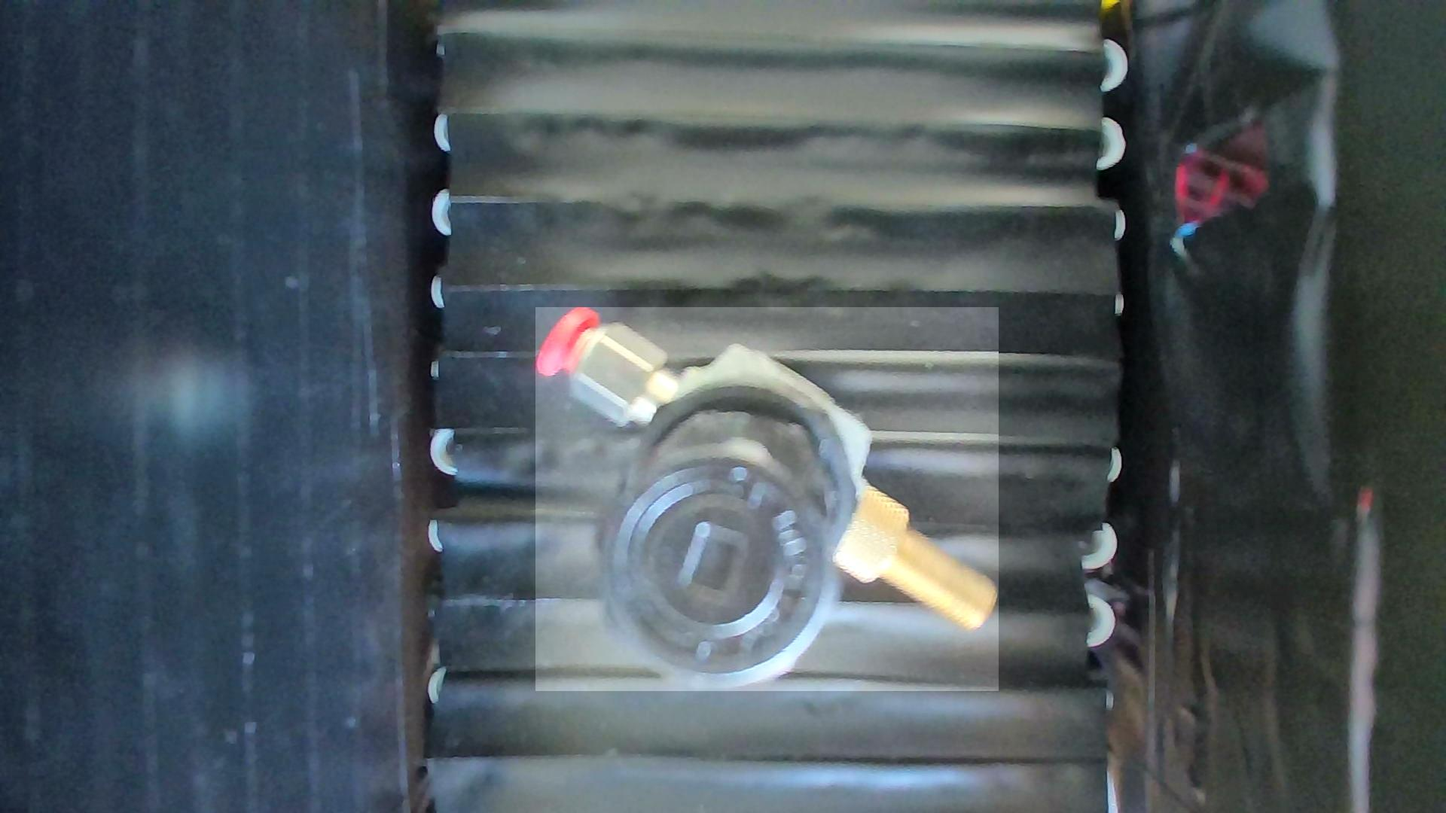regulator: (535, 308, 998, 692)
